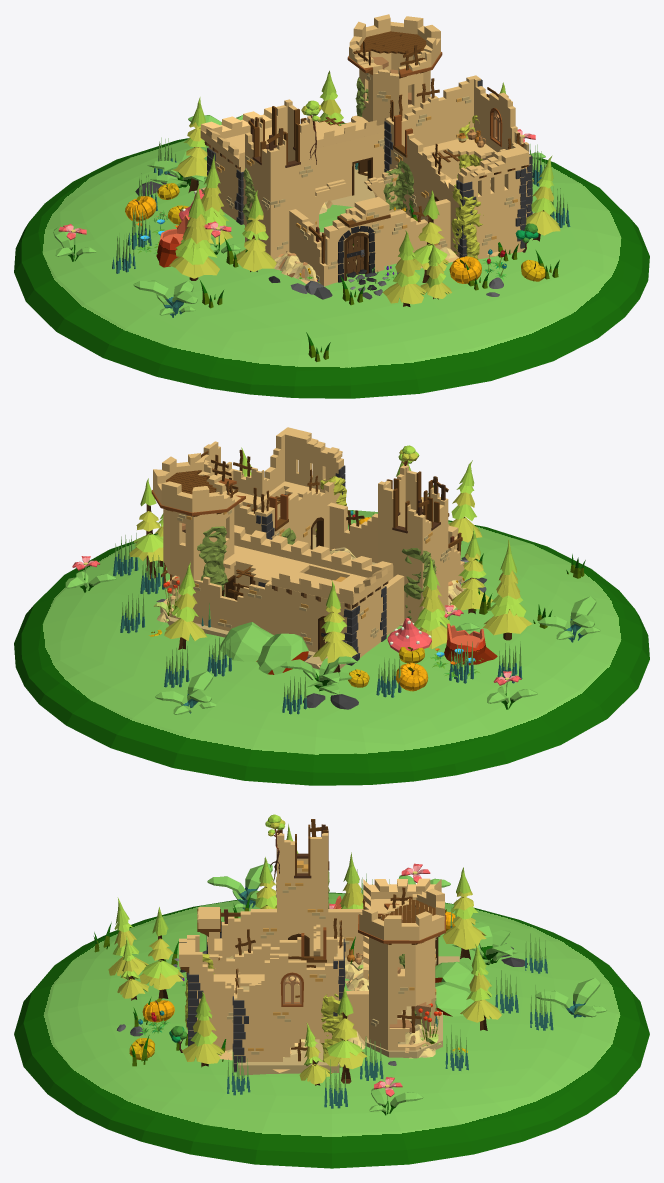
The model's file is castle.glb.
3 views of the same model, one above another, from view 1: azimuth 30°, elevation 25°; view 2: azimuth 150°, elevation 25°; view 3: azimuth 270°, elevation 25° (orthographic).
Parts seen in each view (by area): view 1: Tree.078, Cubo.005, Cubo.004, Cilindro.001, Cubo.002, Cubo.001, Cubo.003, Cubo.023, Cilindro.010, Cubo.033, Cilindro.007, Cilindro.002 (+21 smaller); view 2: Tree.078, Cubo.002, Cubo.005, Cilindro.001, Cubo.004, Cubo.003, Cubo.001, Cilindro.010, Cilindro.023, Cilindro.027, Tree.102, Cilindro.028 (+27 smaller); view 3: Tree.078, Cubo.005, Cilindro.001, Cubo.004, Cubo.001, Cubo.056, Cilindro.025, Cilindro.028, Cilindro.005, Cubo.003, Cilindro.027, Cilindro.024 (+24 smaller).
Boxes of the visible parts, box(x1,y1,x2,y2) form: Tree.078: box(14, 123, 649, 398); Cubo.005: box(385, 75, 530, 259); Cubo.004: box(245, 99, 315, 258); Cilindro.001: box(349, 14, 440, 176); Cubo.002: box(209, 115, 384, 220); Cubo.001: box(243, 177, 450, 286); Cubo.003: box(200, 106, 393, 167); Cubo.023: box(321, 197, 389, 283); Cilindro.010: box(169, 183, 219, 280); Cubo.033: box(215, 70, 517, 269); Cilindro.007: box(233, 190, 276, 271); Cilindro.002: box(382, 230, 426, 306); Tree.078: box(14, 510, 649, 785); Cubo.002: box(192, 545, 384, 657); Cubo.005: box(201, 427, 343, 585); Cilindro.001: box(153, 453, 240, 618); Cubo.004: box(378, 465, 448, 627); Cubo.003: box(234, 525, 393, 605); Cubo.001: box(327, 502, 464, 635); Cilindro.010: box(483, 539, 532, 640); Cilindro.023: box(414, 556, 450, 648); Cilindro.027: box(164, 562, 206, 649); Tree.102: box(257, 633, 308, 674); Cilindro.028: box(313, 580, 357, 672); Tree.078: box(14, 892, 649, 1168); Cubo.005: box(179, 935, 343, 1063); Cilindro.001: box(359, 888, 444, 1050); Cubo.004: box(277, 833, 328, 956); Cubo.001: box(214, 909, 368, 1041); Cubo.056: box(226, 956, 459, 1075); Cilindro.025: box(323, 986, 367, 1083); Cilindro.028: box(442, 867, 486, 959); Cilindro.005: box(139, 907, 184, 998); Cubo.003: box(363, 878, 441, 980); Cilindro.027: box(460, 944, 501, 1030); Cilindro.024: box(182, 992, 224, 1067).
Size of the model in its own units: 31.77 by 10.77 by 31.77.
2 materials, 2 textured.
